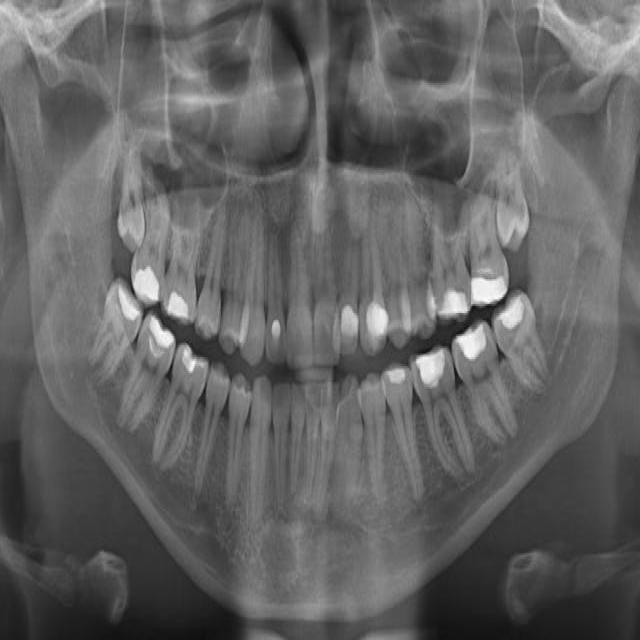dolgu: (465, 251, 514, 309), (138, 314, 178, 373), (128, 244, 164, 308), (172, 332, 206, 398), (415, 336, 452, 394), (452, 323, 494, 371), (494, 289, 533, 338), (157, 273, 193, 324), (434, 283, 472, 331), (361, 288, 390, 346), (116, 283, 144, 342), (382, 354, 412, 408), (338, 295, 365, 350), (267, 307, 289, 365)
